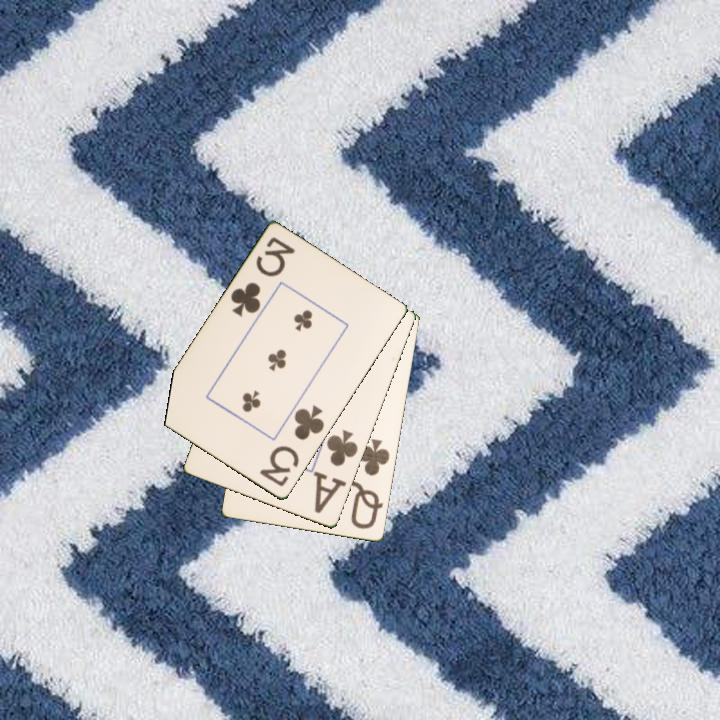3c: (256, 401, 327, 490), (227, 233, 298, 320)
Ac: (311, 426, 361, 517)
Qc: (347, 435, 393, 532)
